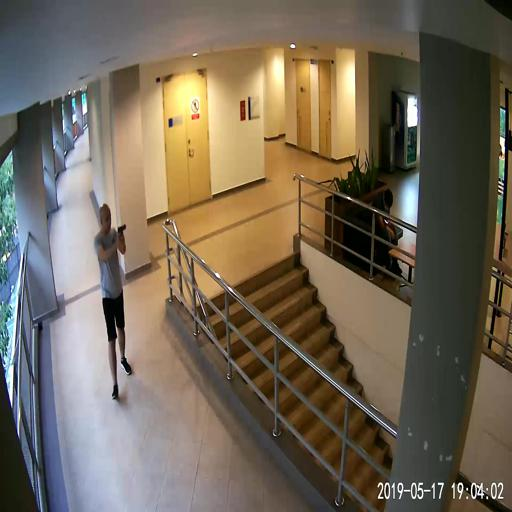pistol: (117, 223, 125, 244)
